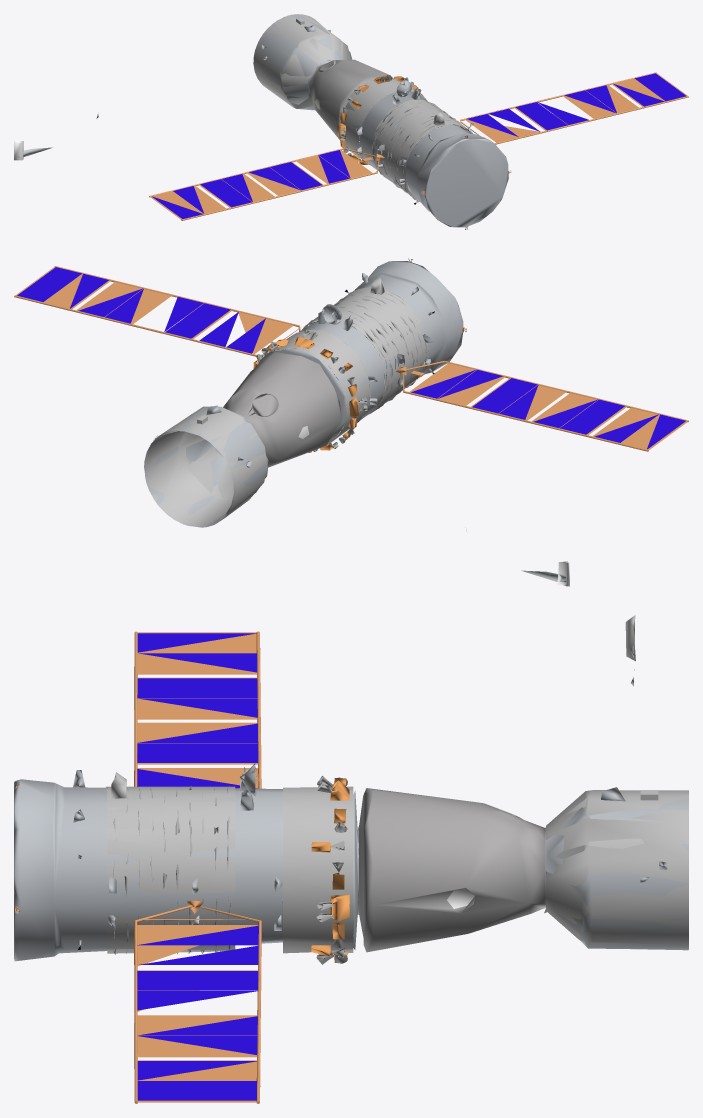
The model's file is tiangong-shenzhou-nadir.glb.
3 renders of one model, top to bottom at view 1: azimuth 30°, elevation 25°; view 2: azimuth 150°, elevation 25°; view 3: azimuth 270°, elevation 25°, orthographic. The views are drawn at different scales.
Parts seen in each view (by area): view 1: shenzhou-nadir; view 2: shenzhou-nadir; view 3: shenzhou-nadir.
Part boxes in pixels (left/top/right/bottom): shenzhou-nadir: left=14, top=14, right=688, bottom=229; shenzhou-nadir: left=14, top=258, right=688, bottom=586; shenzhou-nadir: left=14, top=615, right=688, bottom=1103.
Size of the model in its own units: 16.58 by 3.03 by 9.39.
1 material, 1 textured.
